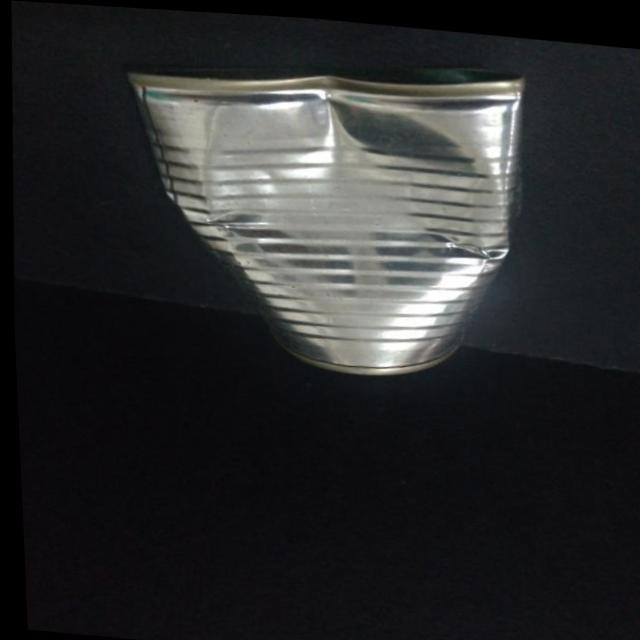metal: (130, 69, 522, 374)
